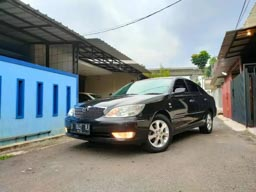plat: (66, 122, 90, 133)
